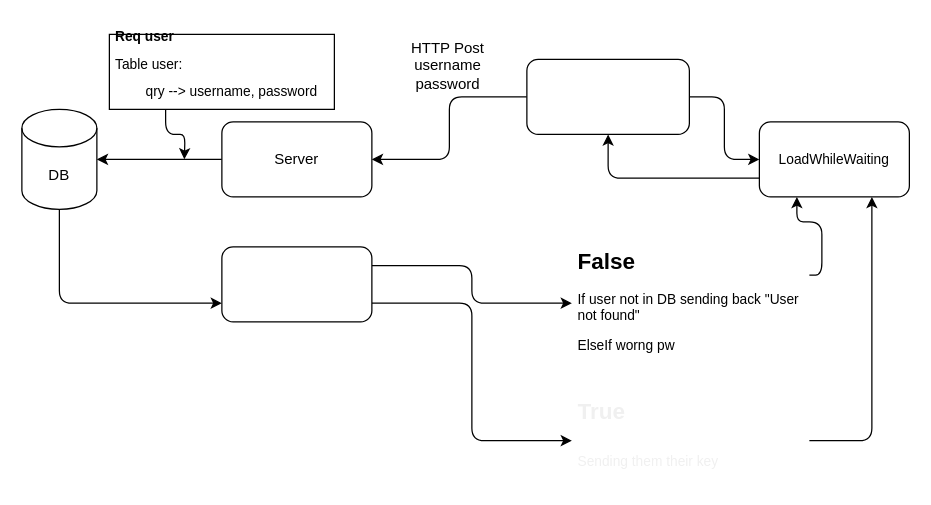
This 931x505 diagram has some shape labels left out. The centre of each missing label's shape, as x and y in pixels:
Ch data: the point at 296,284
Client: the point at 607,96
